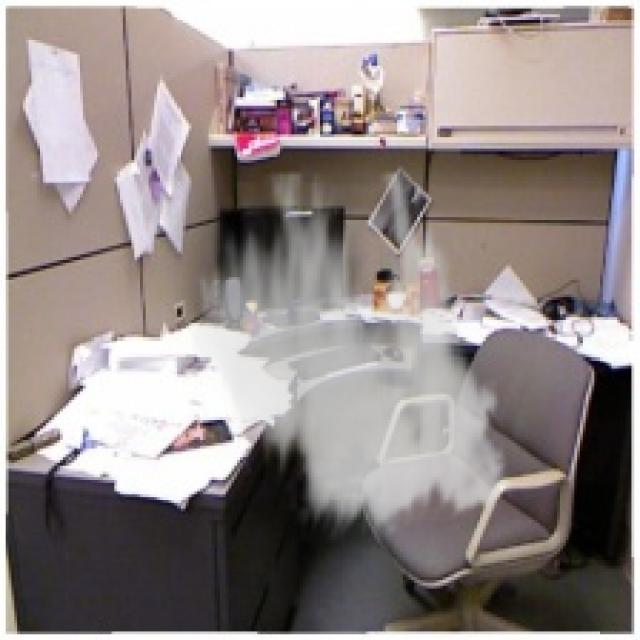smoke: (180, 171, 523, 543)
